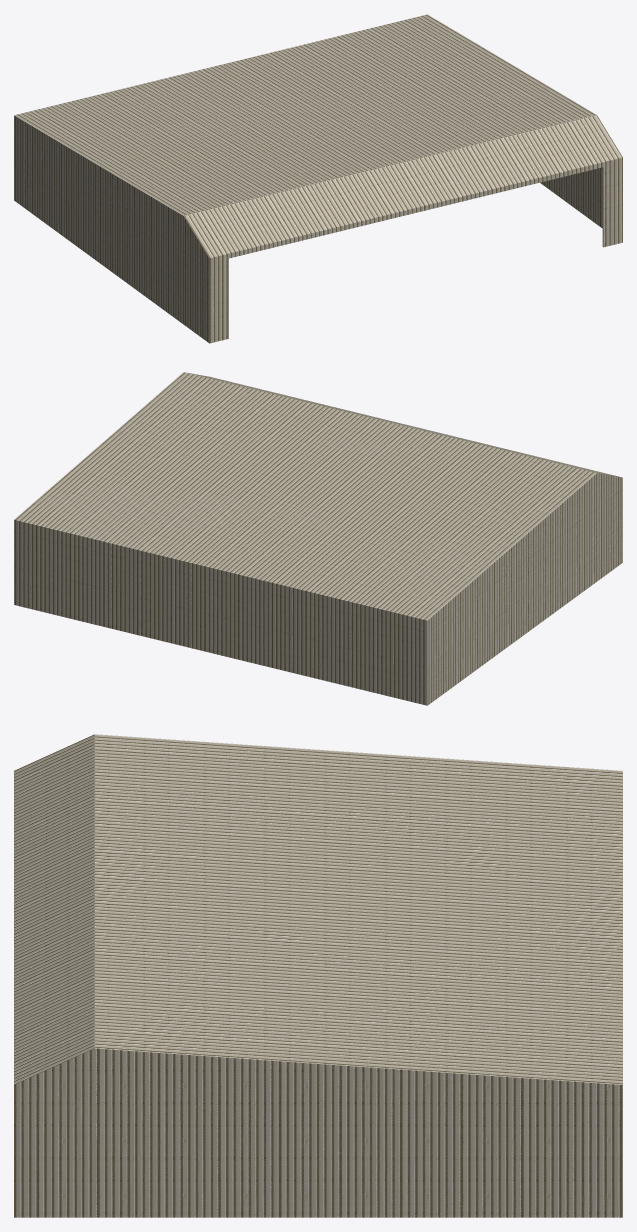
The model's file is LLHZ_G_Hangar.dae.
3 views of the same model, one above another, from view 1: azimuth 30°, elevation 25°; view 2: azimuth 150°, elevation 25°; view 3: azimuth 270°, elevation 25° (orthographic). The views are drawn at different scales.
Parts seen in each view (by area): view 1: group_1 (×2); view 2: group_1; view 3: group_1.
Boxes of the visible parts, x1,y1,x2,y2 form: group_1 (×2): (14, 14, 622, 343); group_1: (14, 372, 622, 705); group_1: (14, 734, 622, 1217).
Size of the model in its own units: 870 by 713 by 219.
Materials: 3 (3 with a texture image).
